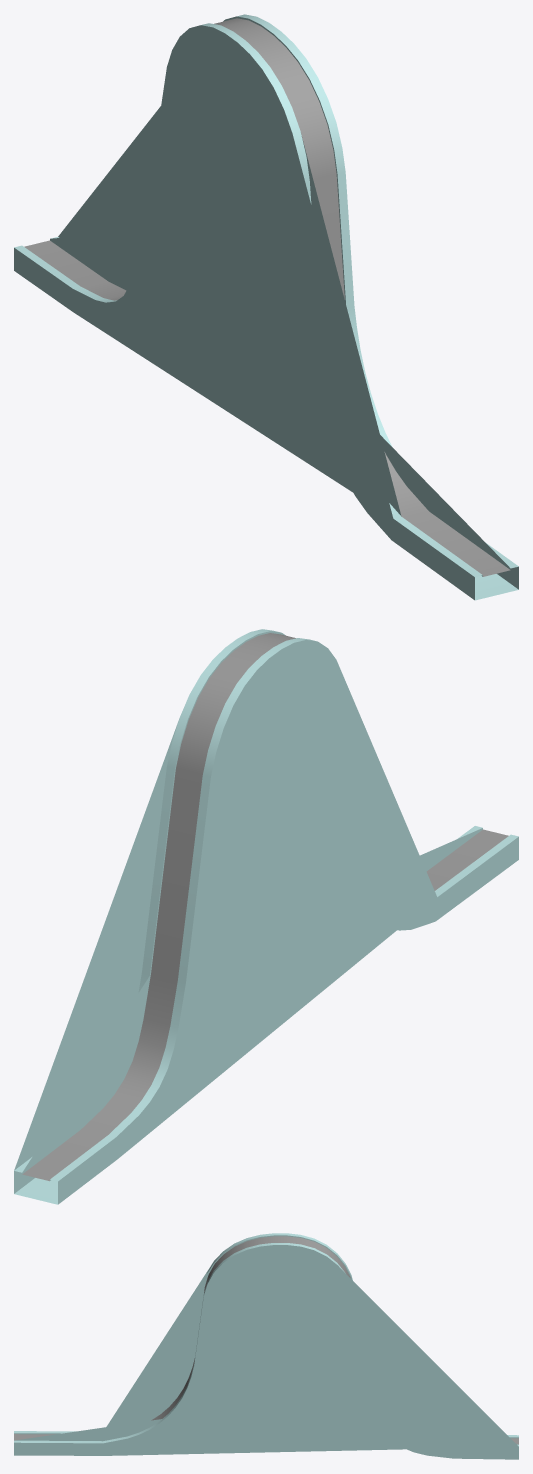
The model's file is midupdown.fbx.
The picture shows the model from 3 angles, top to bottom: view 1: azimuth 30°, elevation 25°; view 2: azimuth 150°, elevation 25°; view 3: azimuth 270°, elevation 25°; orthographic projection. The views are drawn at different scales.
Visible parts, largest first — view 1: midupdown; view 2: midupdown; view 3: midupdown.
Boxes of the visible parts, left/top/right/bottom form: midupdown: left=14, top=14, right=518, bottom=600; midupdown: left=14, top=629, right=518, bottom=1204; midupdown: left=14, top=1233, right=518, bottom=1459.
Size of the model in its own units: 203 by 1729 by 3686.
